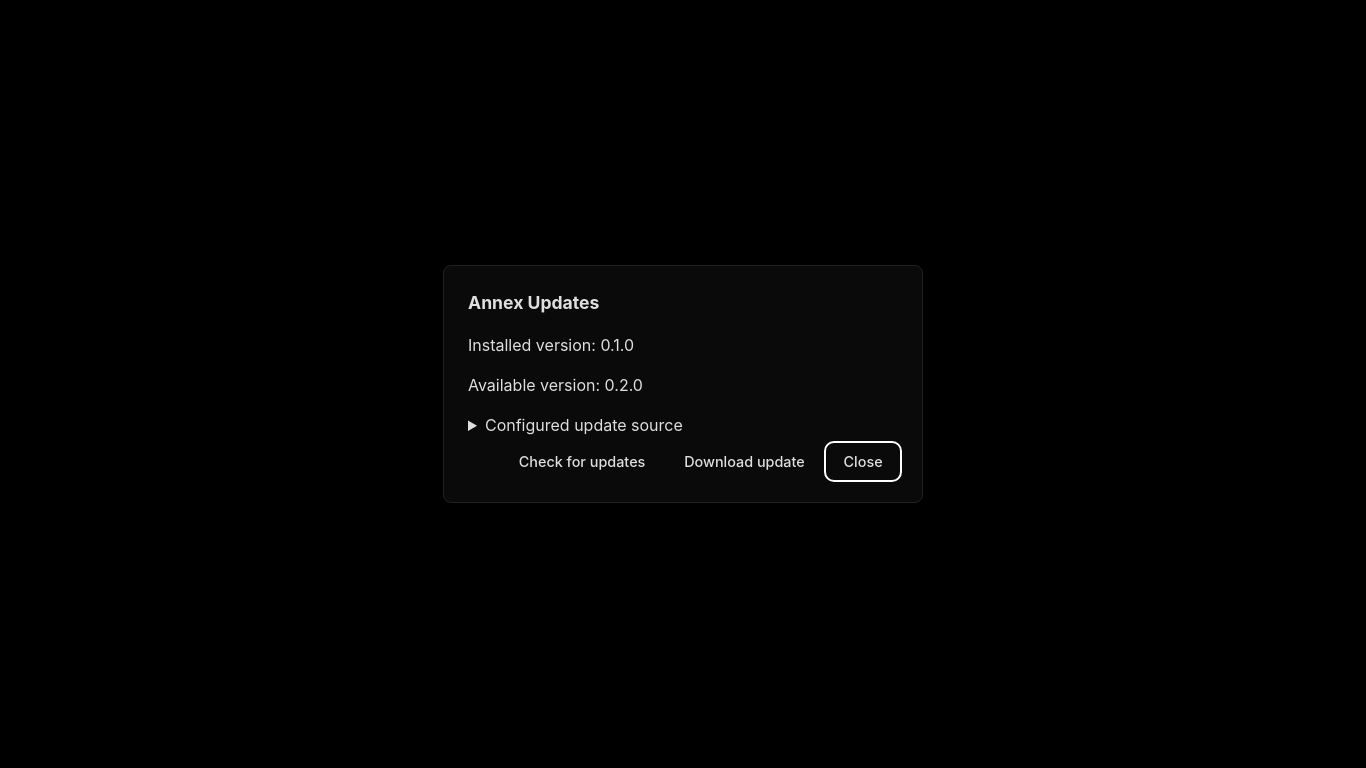
Scenario: DesktopUpdates › keeps signature failure visible, offers retry and never exposes install
The width and height of the screenshot is (1366, 768).
Step 1. Click the button "Download update" → (744, 461), box [669, 444, 820, 478]
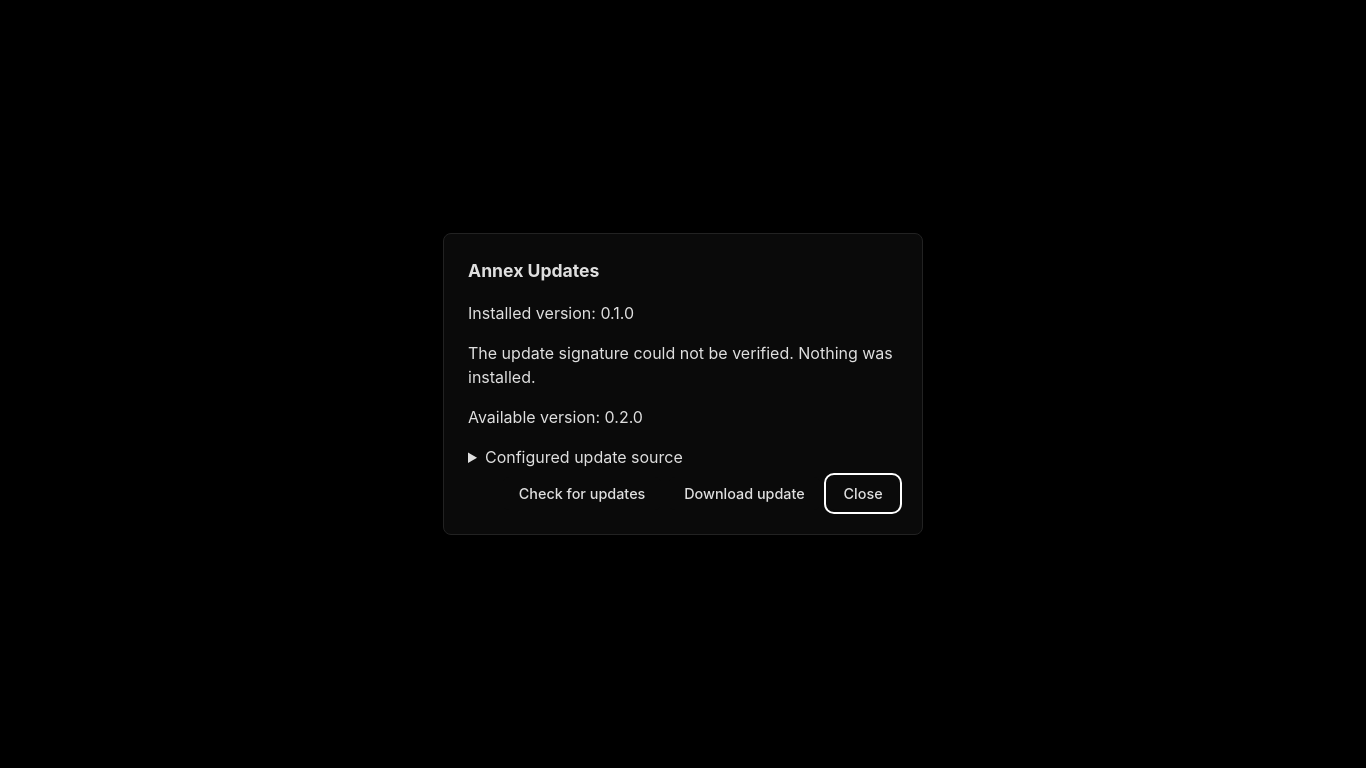
Expected: the button "Download update" is enabled, [669, 476, 820, 510]
Now the message shows "signature could not be verified", box [468, 342, 893, 386]
